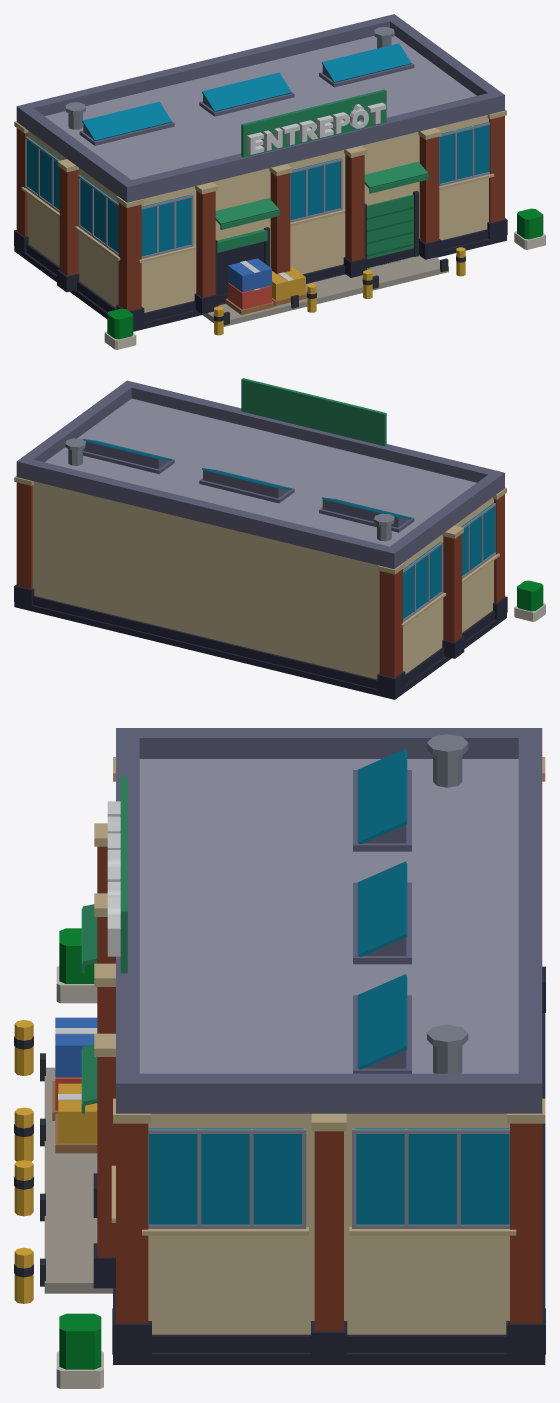
File: warehouse.glb
3 views of the same model, one above another, from view 1: azimuth 30°, elevation 25°; view 2: azimuth 150°, elevation 25°; view 3: azimuth 270°, elevation 25° (orthographic). The views are drawn at different scales.
Parts seen in each view (by area): view 1: warehouse; view 2: warehouse; view 3: warehouse.
Part boxes in pixels (x1,y1,x2,y2): warehouse: (14, 14, 545, 349); warehouse: (14, 378, 545, 699); warehouse: (14, 728, 545, 1388).
Size of the model in its own units: 16.2 by 6.37 by 8.98.
